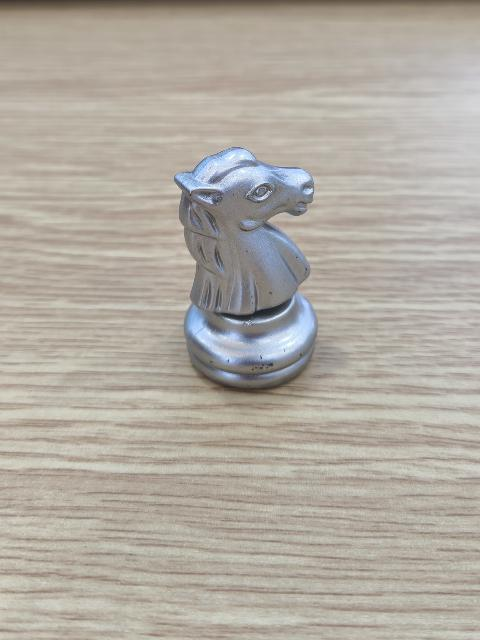white_knight: (177, 146, 322, 387)
